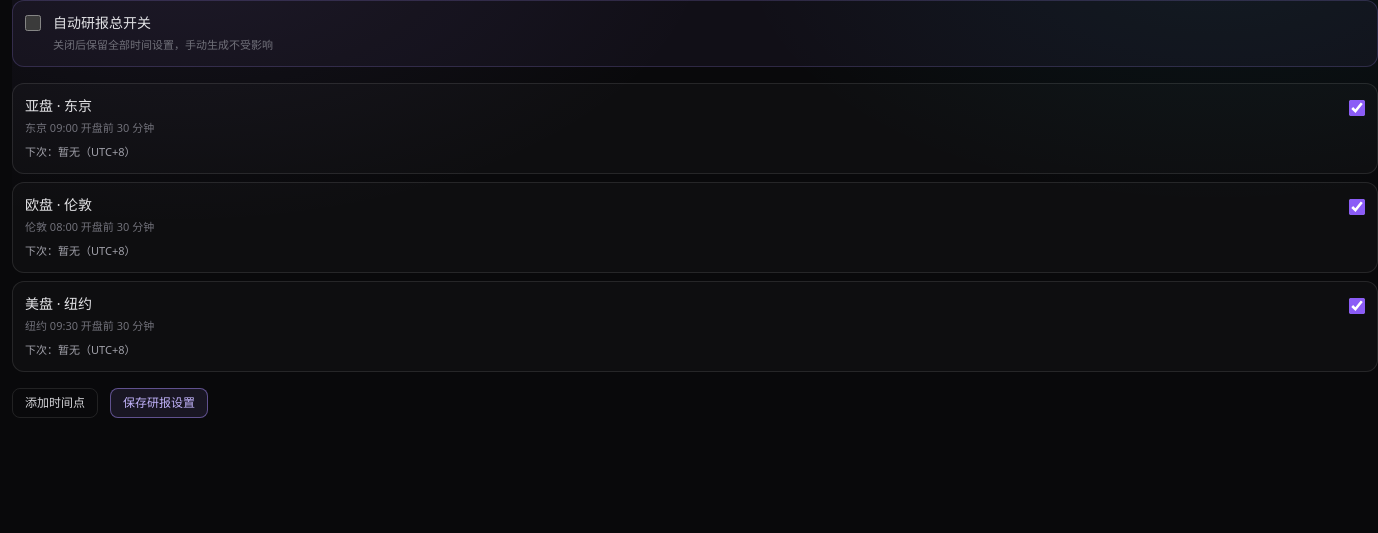
it: ResearchScheduleForm(研报自动执行配置) › 可开启总开关、暂停预设、添加自定义时间并仅保存 research 段
Click the checkbox named "启用自动研报".
click(33, 23)  # box [25,15,41,31]
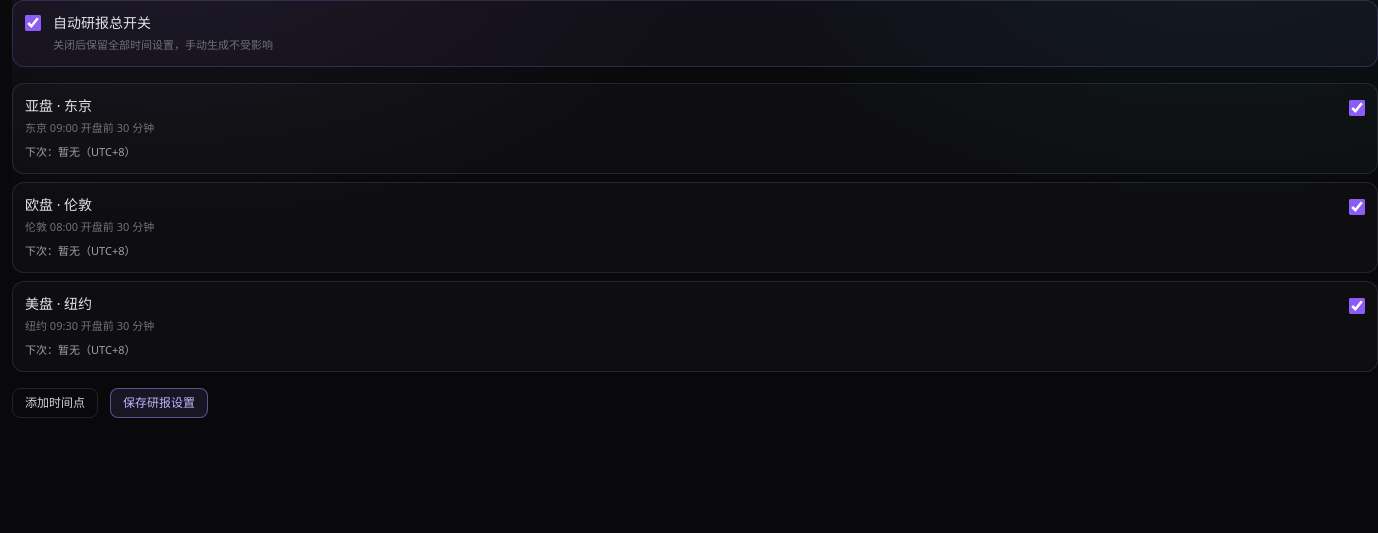
Click the checkbox named "启用亚盘调度".
click(1357, 108)  # box [1349,100,1365,116]
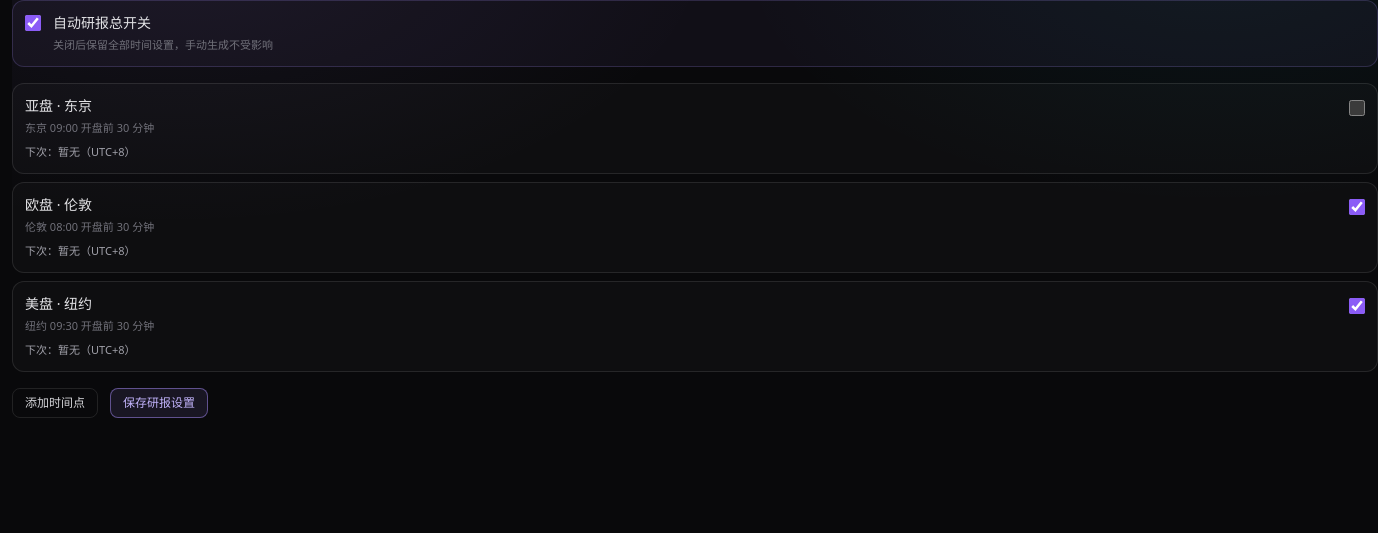
Click the button "添加时间点".
click(55, 402)  # box [12,388,98,418]
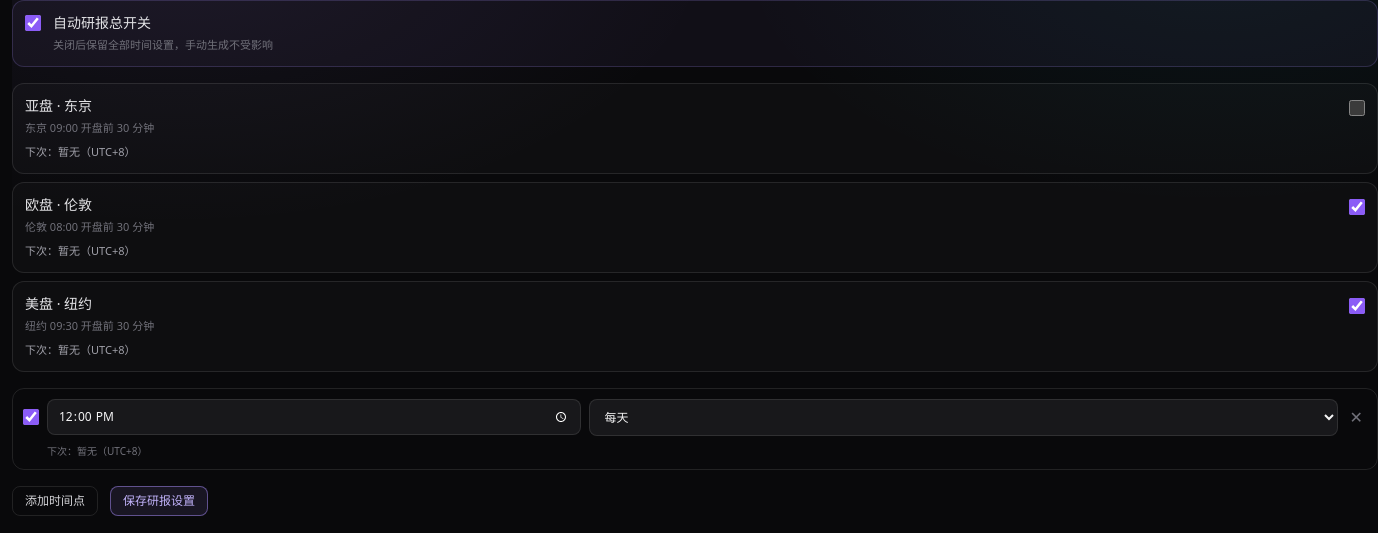
Replace the text in the time field named "自定义执行时间 1" with "12:30" at (314, 417), box [47,399,581,435]
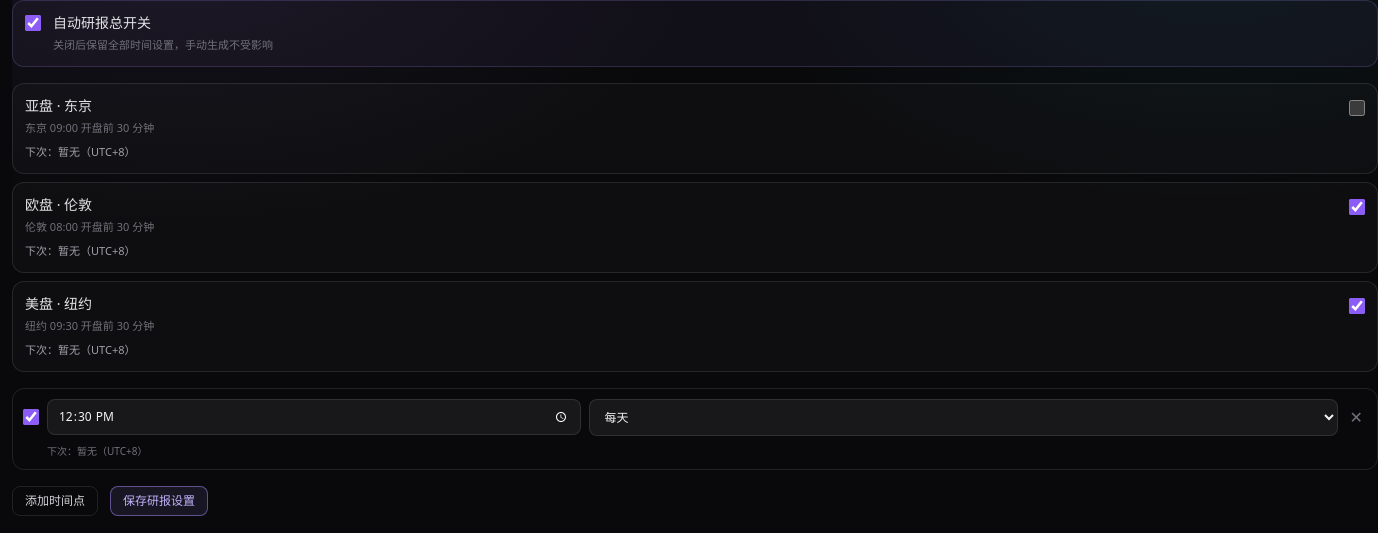
Select "纽约交易日" in the dropdown named "自定义日期规则 1" at (964, 417), box [589,398,1338,436]
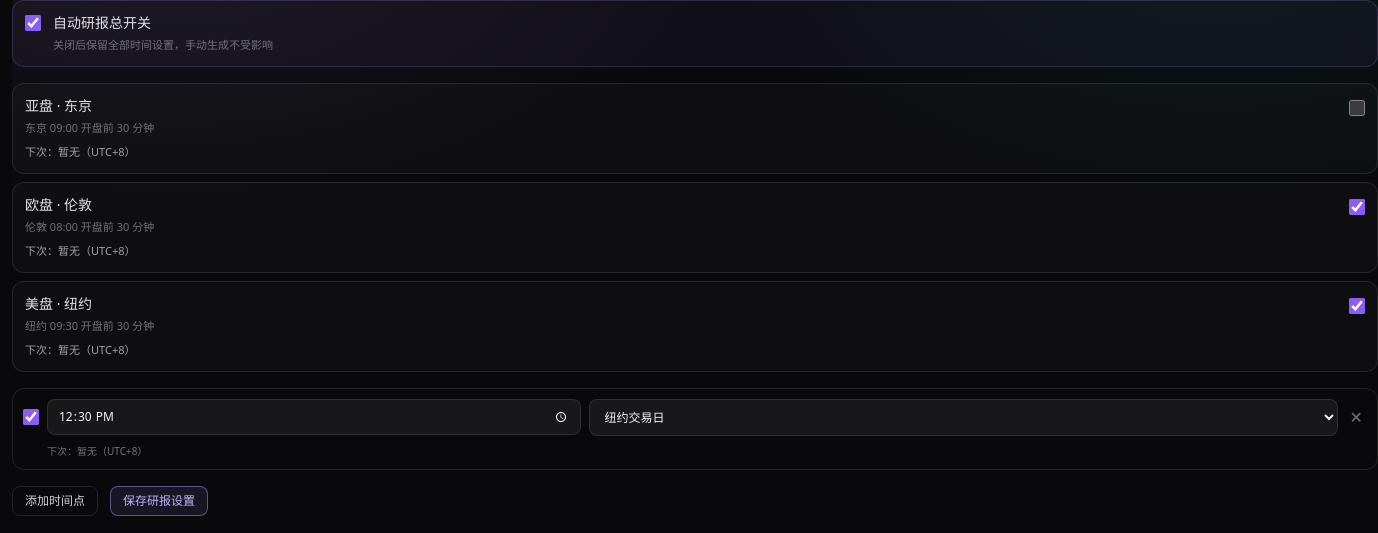
Click the button "保存研报设置".
click(159, 500)  # box [110,486,208,516]
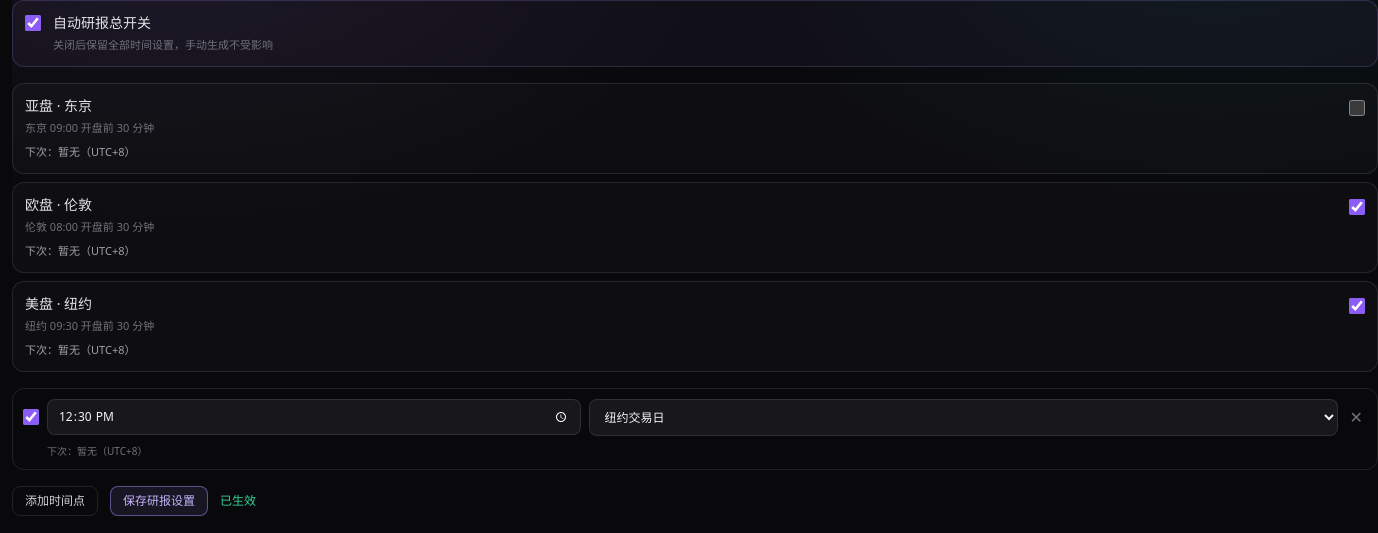
Expected: the text "已生效" is shown, [220,492,256,508]
